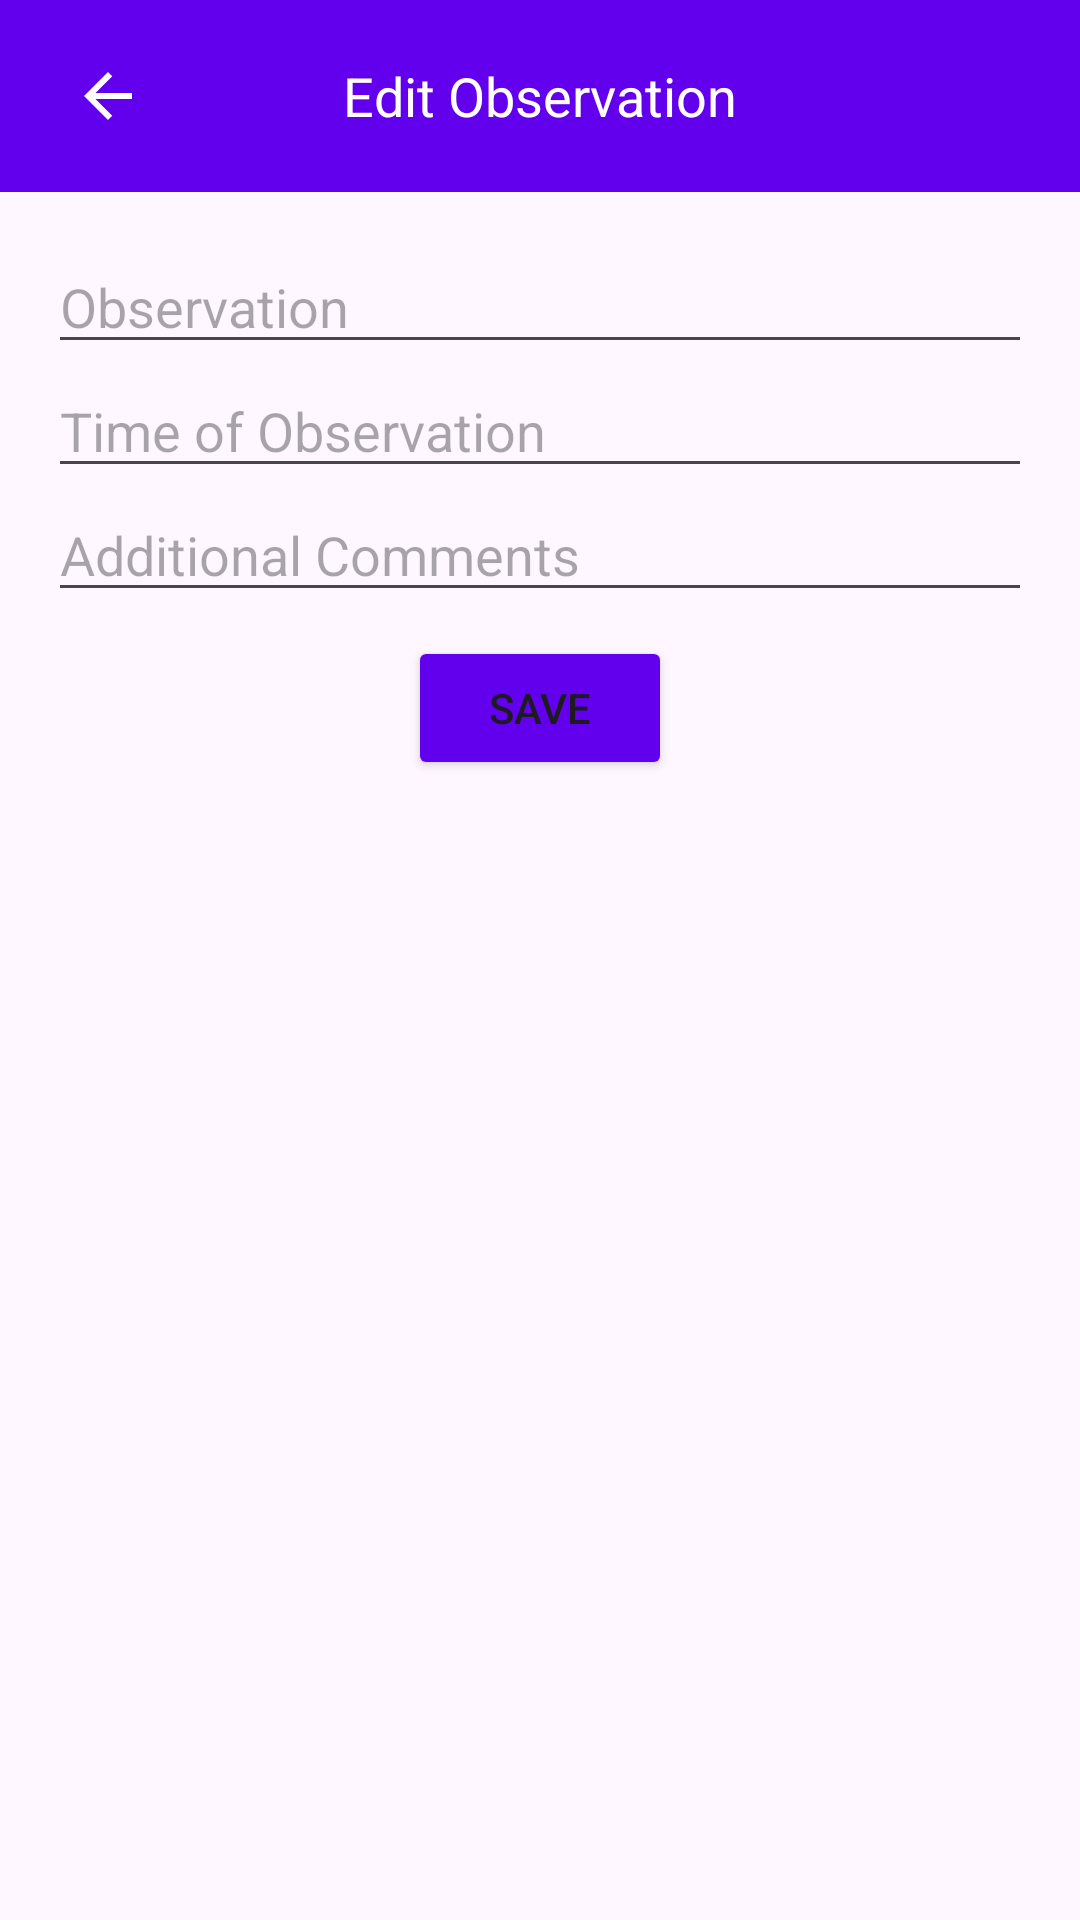

Icons on this 1080×1920 Android screen, each with its box as bbox=(x1, y1, x2, y2):
back arrow: bbox=(84, 72, 132, 120)
